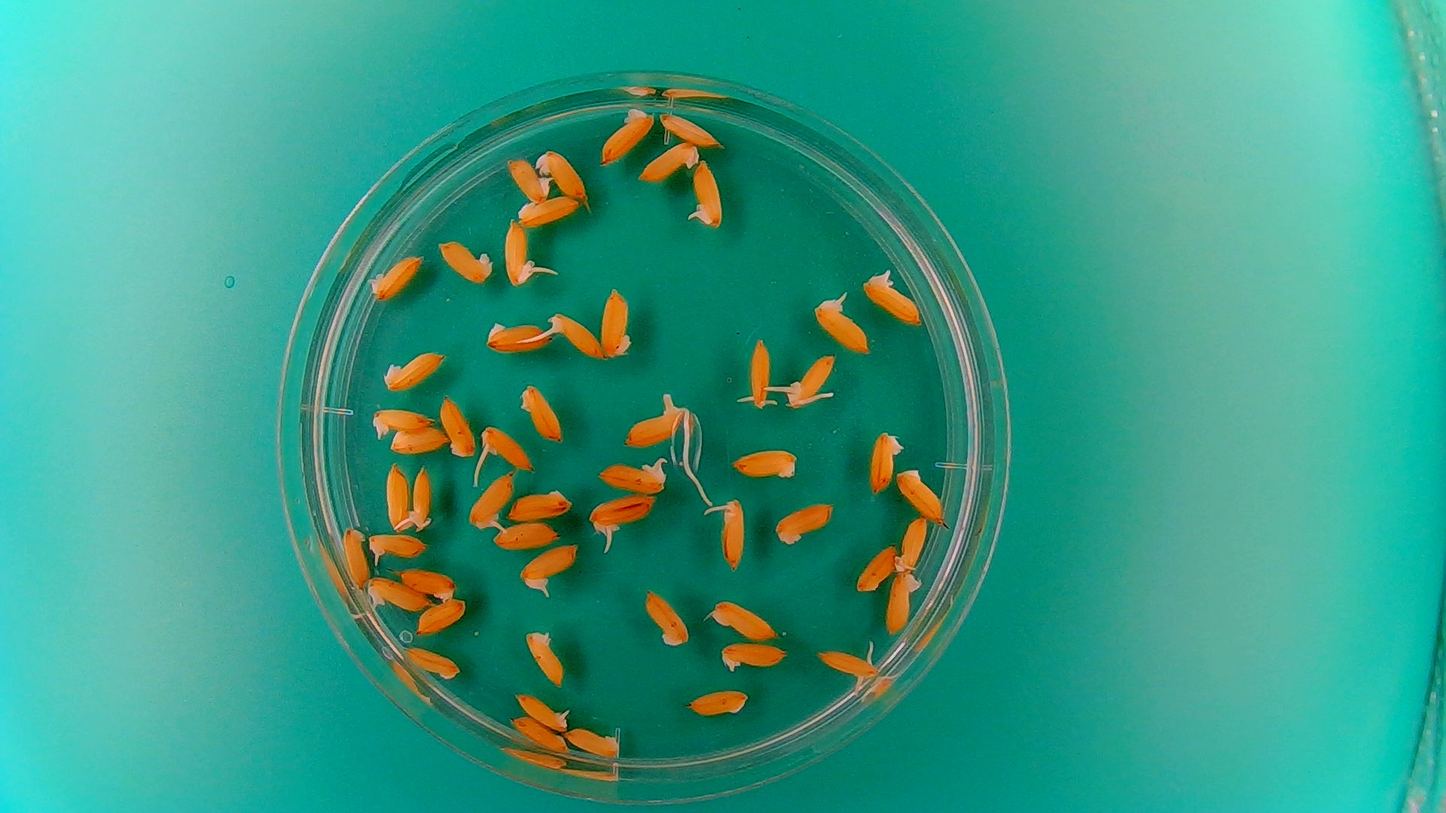no: (596, 105, 656, 166), (706, 595, 780, 640), (380, 348, 448, 394), (894, 464, 947, 522), (641, 586, 691, 647), (517, 380, 564, 443), (366, 251, 425, 301), (636, 137, 700, 183), (535, 147, 589, 199), (776, 501, 837, 547), (437, 236, 493, 284), (598, 284, 633, 360), (523, 626, 566, 687), (865, 428, 904, 495), (884, 569, 923, 636), (656, 108, 722, 147), (508, 713, 569, 755), (730, 444, 800, 480), (437, 392, 475, 458), (416, 590, 468, 638), (508, 485, 575, 522), (484, 318, 550, 355), (718, 640, 790, 672), (505, 155, 553, 202), (516, 193, 582, 227), (402, 644, 462, 681), (854, 542, 898, 592), (561, 724, 622, 759), (338, 523, 370, 589), (493, 519, 561, 550), (397, 566, 457, 601), (895, 513, 929, 573), (686, 687, 750, 718), (383, 461, 410, 530), (389, 425, 450, 455)
yes: (811, 288, 872, 355), (620, 394, 690, 449), (859, 266, 923, 326), (586, 491, 657, 541), (519, 539, 581, 595), (782, 352, 837, 410), (596, 453, 672, 494), (543, 309, 604, 360), (709, 494, 748, 573), (465, 470, 515, 531), (685, 157, 725, 232), (477, 422, 534, 473), (737, 334, 775, 410), (502, 217, 542, 288), (512, 688, 572, 732), (364, 575, 431, 614), (814, 644, 879, 684), (365, 529, 429, 564), (369, 405, 435, 438), (404, 464, 434, 533)
